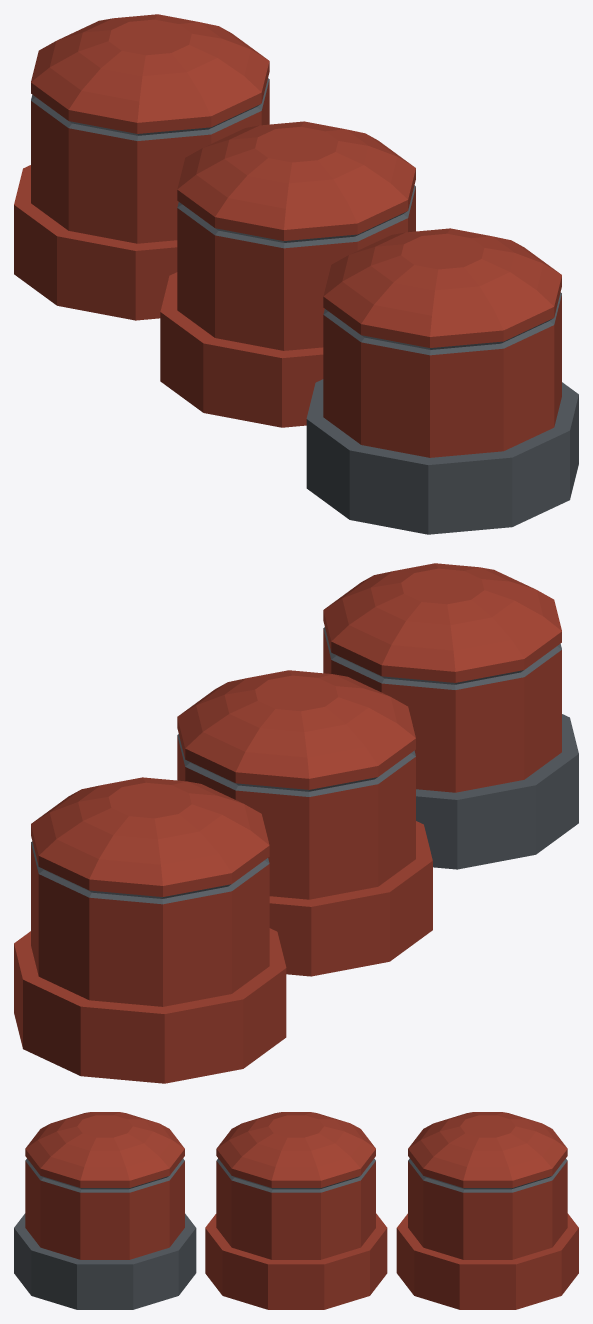
File: Mothership_01_Vessels_Red.fbx
3 views of the same model, one above another, from view 1: azimuth 30°, elevation 25°; view 2: azimuth 150°, elevation 25°; view 3: azimuth 270°, elevation 25° (orthographic). The views are drawn at different scales.
Parts seen in each view (by area): view 1: Mothership_01_Vessels_Red; view 2: Mothership_01_Vessels_Red; view 3: Mothership_01_Vessels_Red.
Part boxes in pixels (left/top/right/bottom): Mothership_01_Vessels_Red: left=14, top=14, right=578, bottom=534; Mothership_01_Vessels_Red: left=14, top=563, right=578, bottom=1083; Mothership_01_Vessels_Red: left=14, top=1112, right=578, bottom=1309.
Bounding box in the file's own units: 733 × 686 × 2391.
Materials: 1 (1 with a texture image).
